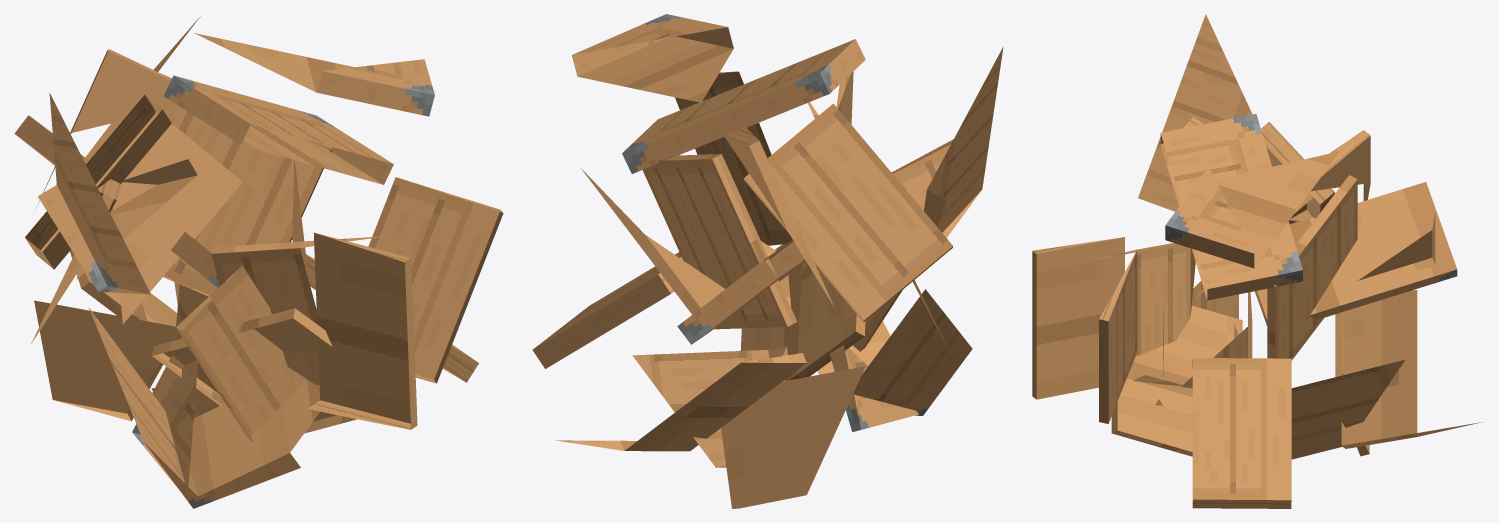
The model's file is crate_break.glb.
3 views of the same model, side by side, from view 1: azimuth 30°, elevation 25°; view 2: azimuth 150°, elevation 25°; view 3: azimuth 270°, elevation 25° (orthographic). The views are drawn at different scales.
Parts seen in each view (by area): view 1: Cube.014, Cube.018, Cube.022, Cube.002, Cube.020, Cube.011, Cube.005, Cube.004, Cube.009, Cube.010, Cube.021, Cube.015 (+12 smaller); view 2: Cube.015, Cube.020, Cube.002, Cube.011, Cube.010, Cube.016, Cube.001, Cube.023, Cube.009, Cube.006, Cube.019, Cube.007 (+8 smaller); view 3: Cube.019, Cube.014, Cube.010, Cube.011, Cube.007, Cube.001, Cube.023, Cube.002, Cube.009, Cube.006, Cube.021, Cube.018 (+6 smaller).
Boxes of the visible parts, x1,y1,x2,y2 form: Cube.014: (307,232,417,429); Cube.018: (368,177,503,383); Cube.022: (176,266,306,441); Cube.002: (163,76,332,296); Cube.020: (34,300,179,421); Cube.011: (164,75,393,184); Cube.005: (113,124,300,324); Cube.004: (188,379,319,508); Cube.009: (38,92,150,294); Cube.010: (194,33,434,116); Cube.021: (211,235,390,385); Cube.015: (25,95,171,269); Cube.015: (744,103,953,322); Cube.020: (721,366,865,508); Cube.002: (642,154,797,329); Cube.011: (622,39,865,173); Cube.010: (572,14,733,102); Cube.016: (853,289,972,408); Cube.001: (555,353,806,451); Cube.023: (740,244,865,380); Cube.009: (924,47,1003,237); Cube.006: (632,346,787,467); Cube.019: (532,252,682,368); Cube.007: (677,239,805,344); Cube.019: (1192,358,1291,508); Cube.014: (1032,237,1124,399); Cube.010: (1165,151,1339,268); Cube.011: (1160,114,1302,300); Cube.007: (1255,182,1457,325); Cube.001: (1341,290,1482,448); Cube.023: (1111,305,1242,456); Cube.002: (1267,175,1357,360); Cube.009: (1138,14,1252,211); Cube.006: (1291,360,1404,459); Cube.021: (1092,243,1195,356); Cube.018: (1099,250,1137,423).
Bounding box in the file's own units: 2.33 × 2.35 × 2.56.
1 material, 1 textured.
